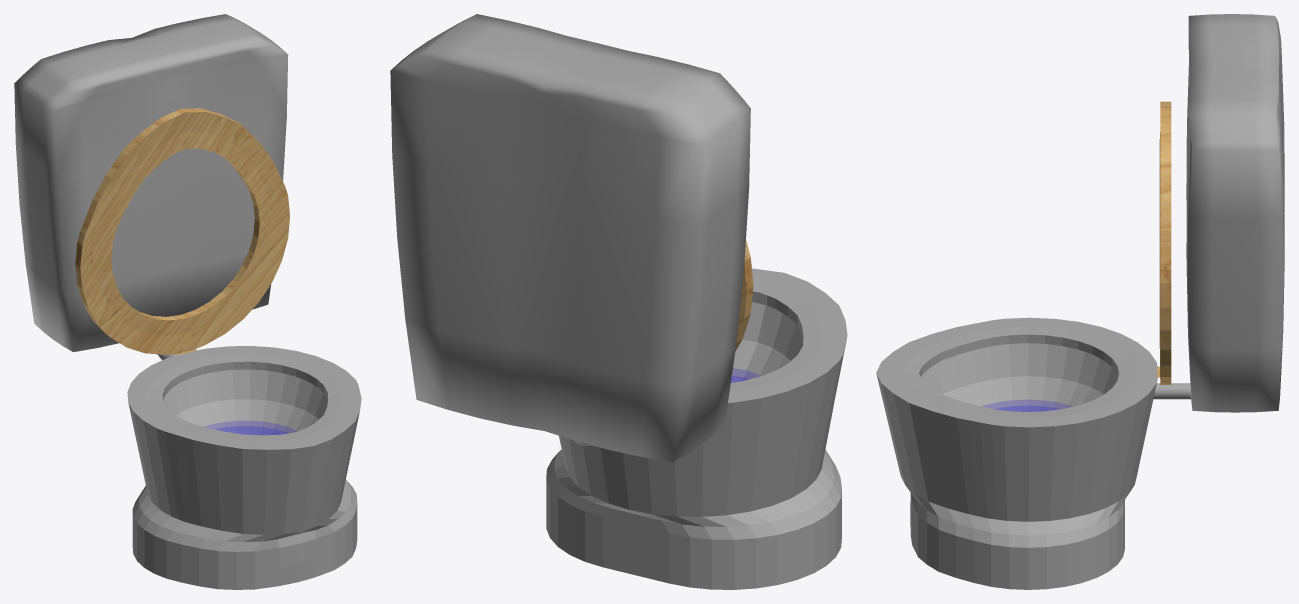
Rendered from klo.glb.
3 views of the same model, side by side, from view 1: azimuth 30°, elevation 25°; view 2: azimuth 150°, elevation 25°; view 3: azimuth 270°, elevation 25° (orthographic). The views are drawn at different scales.
Visible parts, largest first — view 1: Spuelkasten, Klo, Klobrille, Wasser; view 2: Spuelkasten, Klo, Klobrille; view 3: Klo, Spuelkasten, Klobrille, Wasser.
Boxes of the visible parts, x1,y1,x2,y2 form: Spuelkasten: [14, 14, 288, 352]; Klo: [127, 346, 361, 589]; Klobrille: [75, 108, 289, 355]; Wasser: [206, 421, 295, 434]; Spuelkasten: [390, 14, 750, 462]; Klo: [546, 268, 847, 589]; Klobrille: [735, 241, 753, 350]; Klo: [876, 317, 1190, 589]; Spuelkasten: [1186, 14, 1284, 412]; Klobrille: [1157, 101, 1171, 384]; Wasser: [982, 400, 1071, 411].
Size of the model in its own units: 2.34 by 4.03 by 3.15.
3 materials, 1 textured.
